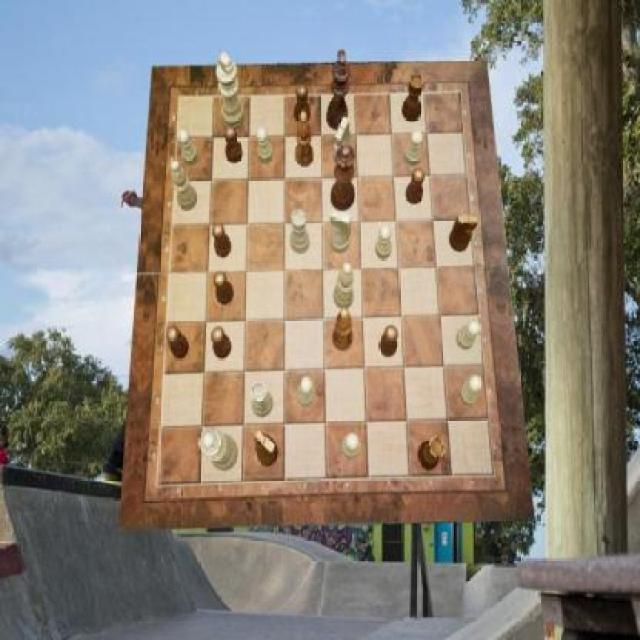bishop: (296, 111, 314, 165), (332, 308, 353, 350)
black-bishop: (326, 49, 351, 131)
black-king: (449, 215, 478, 253), (254, 429, 278, 467)
black-knight: (166, 326, 189, 360), (212, 222, 232, 258), (406, 168, 426, 204), (214, 271, 234, 305), (380, 326, 400, 359), (225, 126, 242, 164), (211, 328, 231, 360), (296, 86, 312, 125)
black-pawn: (332, 146, 357, 212)
black-queen: (401, 74, 424, 121), (418, 435, 446, 470)
black-rook: (171, 160, 197, 211), (334, 263, 354, 309)
white-bishop: (217, 51, 246, 129)
white-king: (331, 210, 351, 254), (334, 117, 351, 166)
white-knight: (177, 129, 199, 167), (457, 320, 481, 351), (460, 375, 482, 408), (255, 126, 273, 164), (404, 131, 424, 165), (295, 377, 313, 409), (376, 225, 392, 259), (342, 432, 361, 458)
white-pawn: (198, 428, 238, 472)
white-queen: (291, 209, 311, 255), (251, 382, 274, 416)
